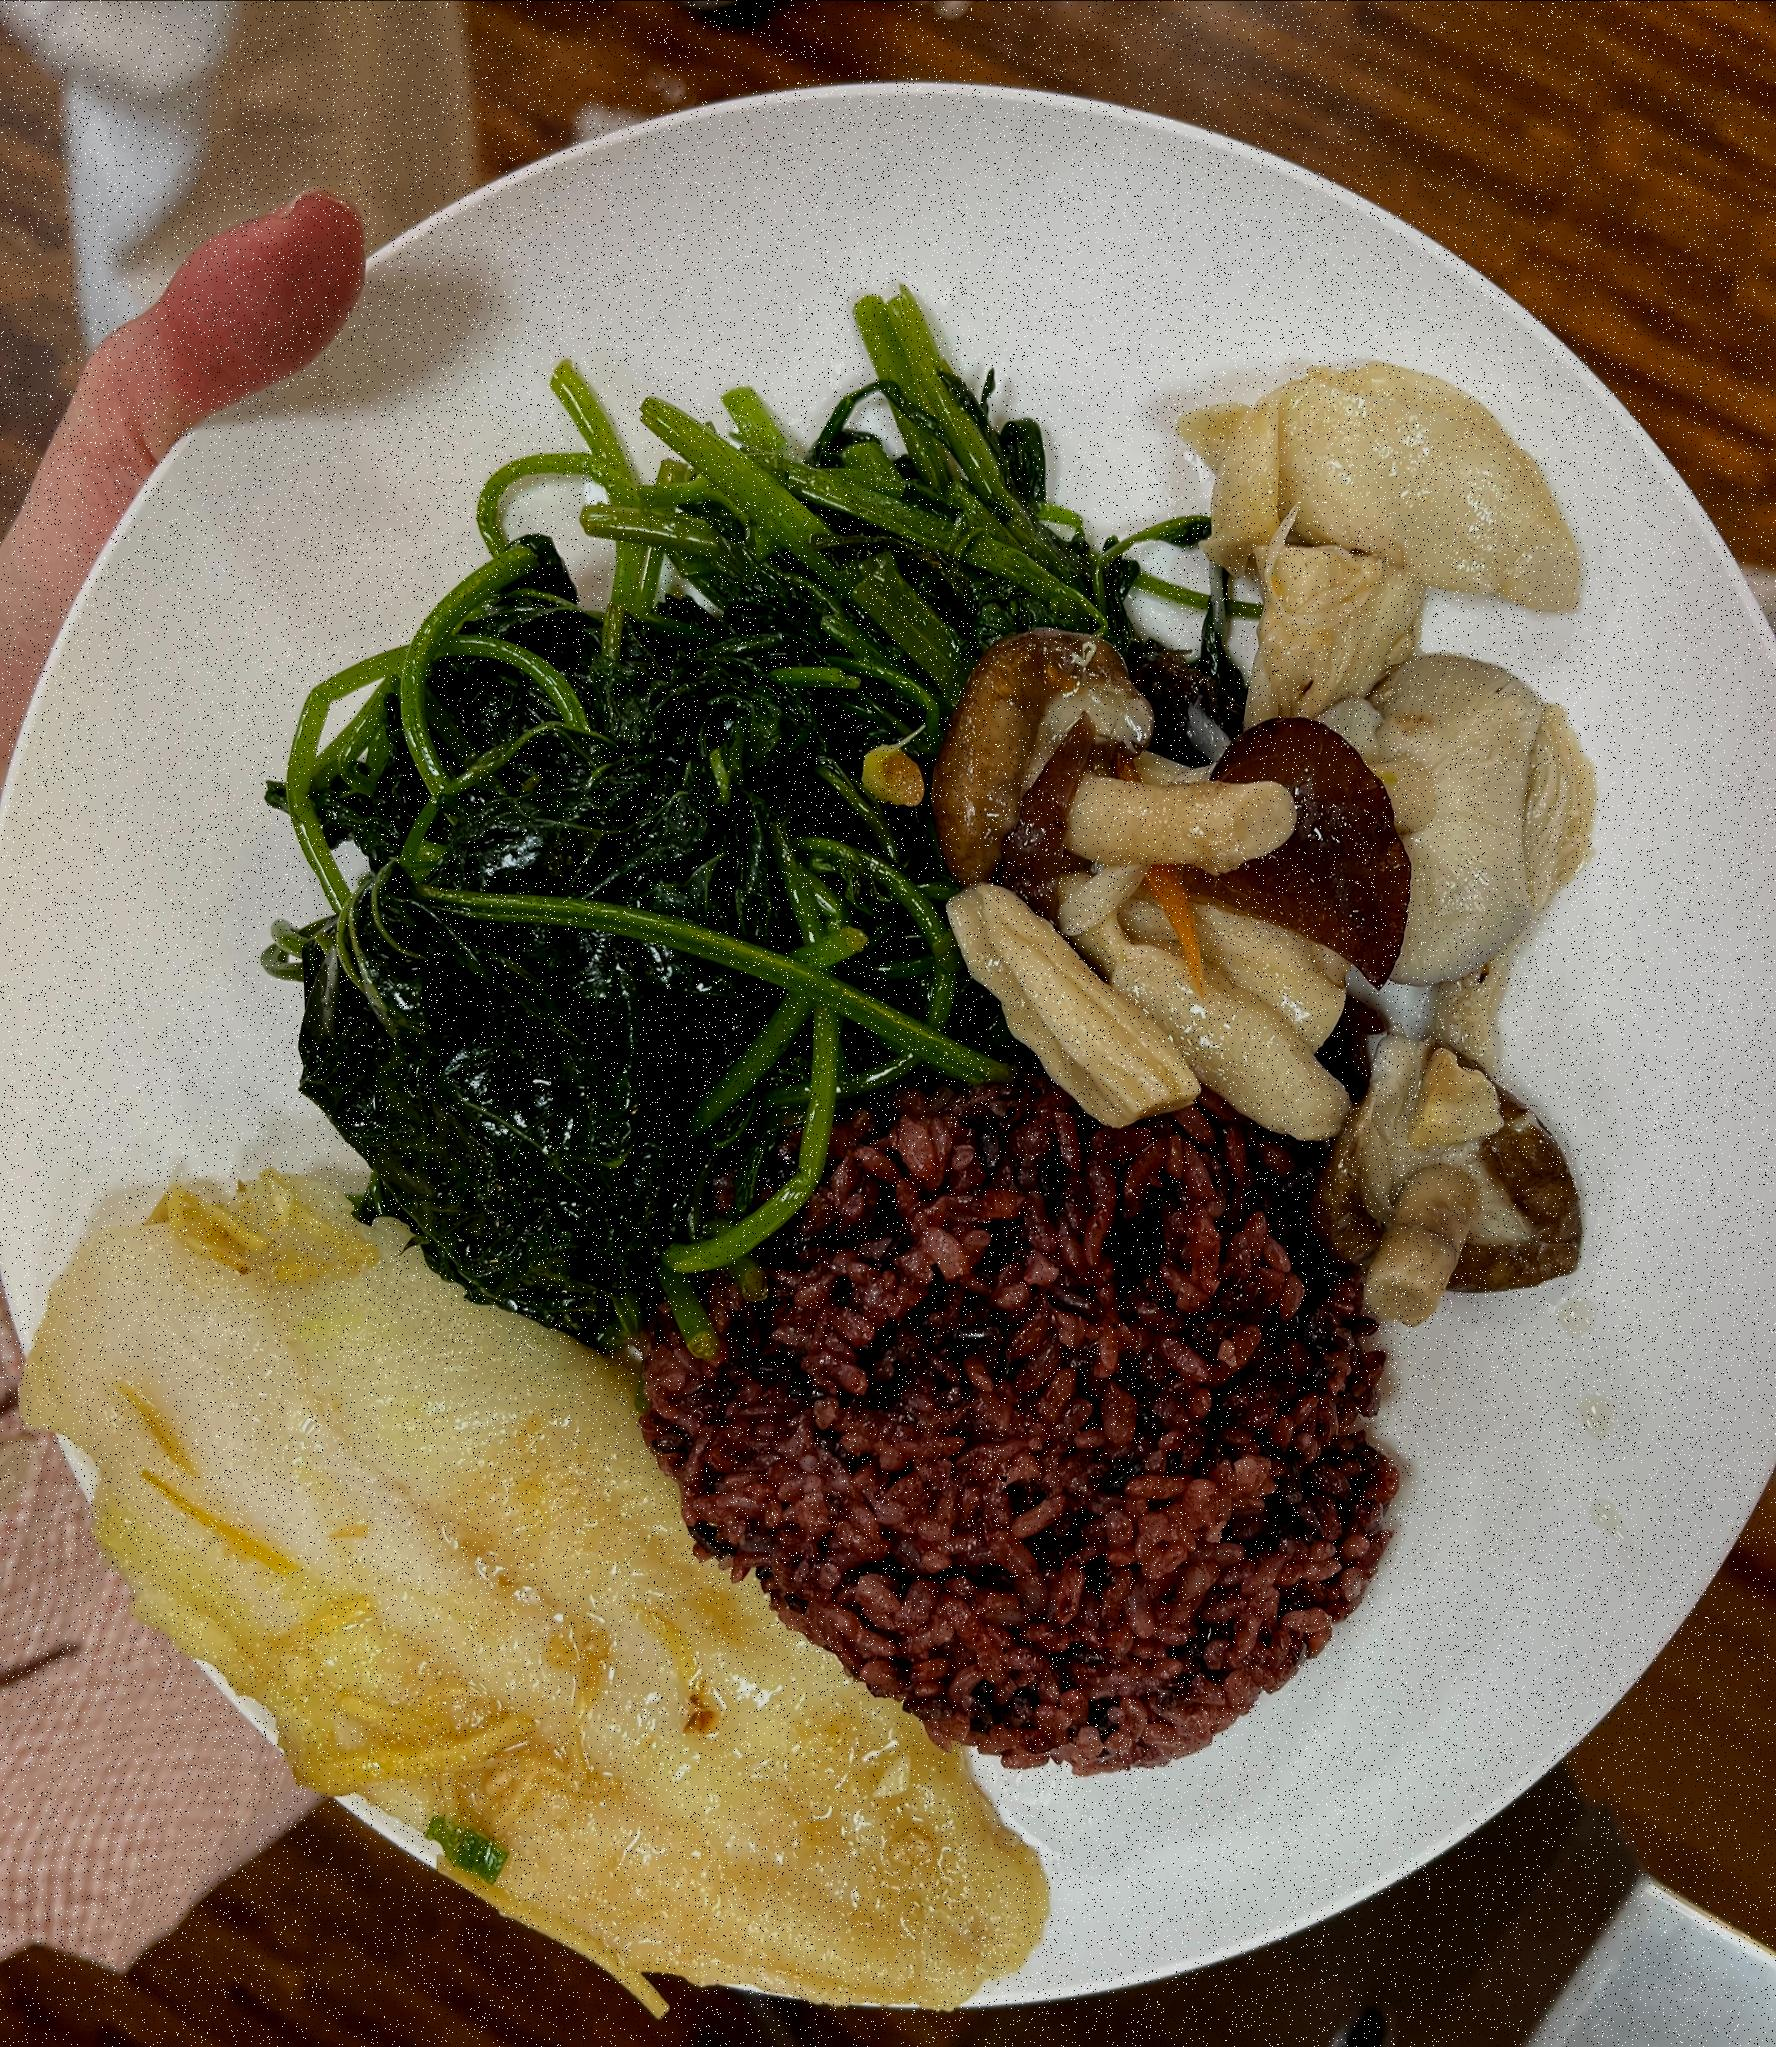plate: (0, 54, 1752, 2005)
purple rice: (646, 1058, 1402, 1770)
side dish: (279, 395, 987, 1300), (937, 355, 1576, 1239)
steamed fish fillet: (31, 1142, 1039, 2014)
